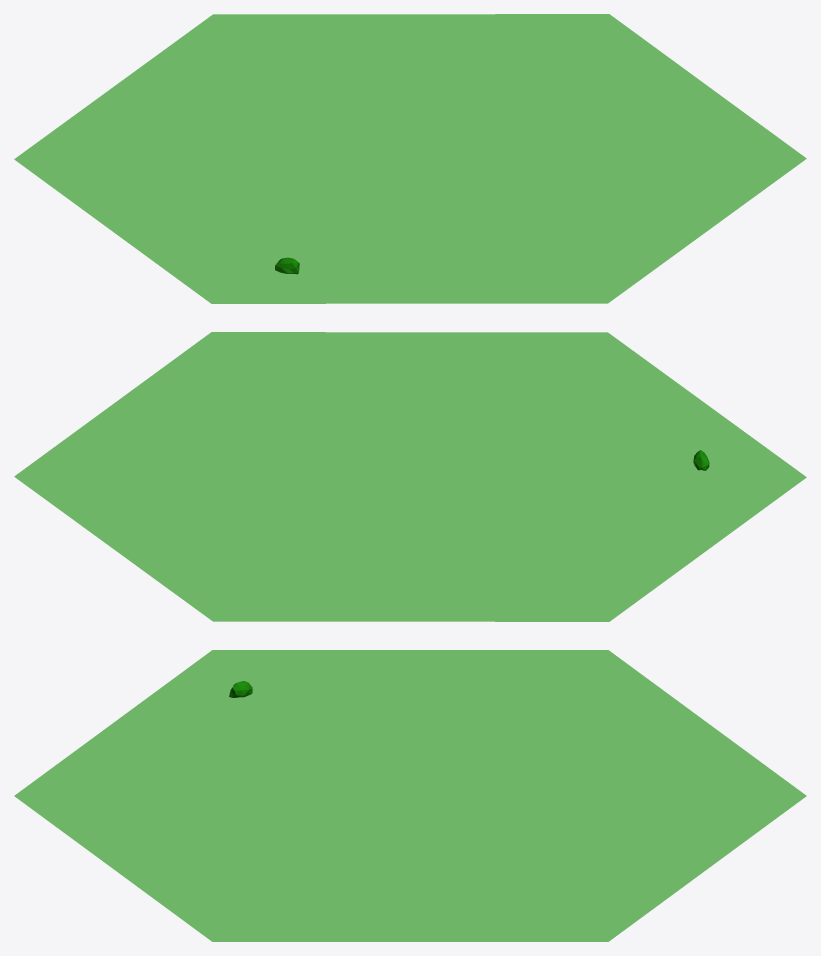
The model's file is Hexagone herbe.fbx.
The picture shows the model from 3 angles, top to bottom: view 1: azimuth 30°, elevation 25°; view 2: azimuth 150°, elevation 25°; view 3: azimuth 270°, elevation 25°; orthographic projection.
Visible parts, largest first — view 1: Cylinder; view 2: Cylinder; view 3: Cylinder.
Part boxes in pixels (x1=…): Cylinder: x1=14, y1=14, x2=806, y2=303; Cylinder: x1=14, y1=332, x2=806, y2=621; Cylinder: x1=14, y1=650, x2=806, y2=941.
Bounding box in the file's own units: 17.41 × 20 × 0.5035.
